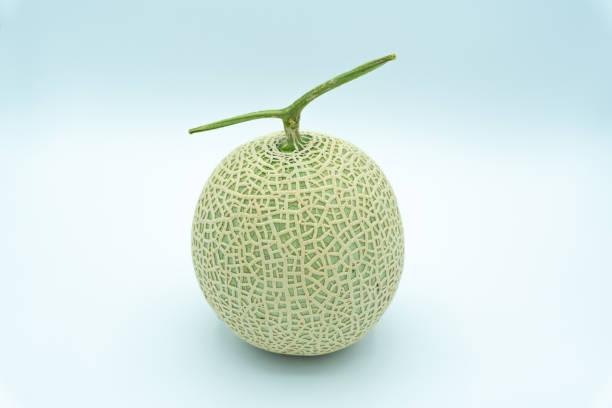Melon Unripe: (188, 54, 400, 356)
